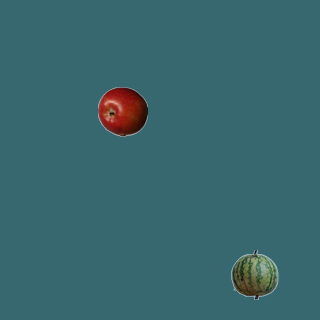Apple Braeburn: (97, 86, 147, 136)
Watermelon: (229, 249, 279, 299)
